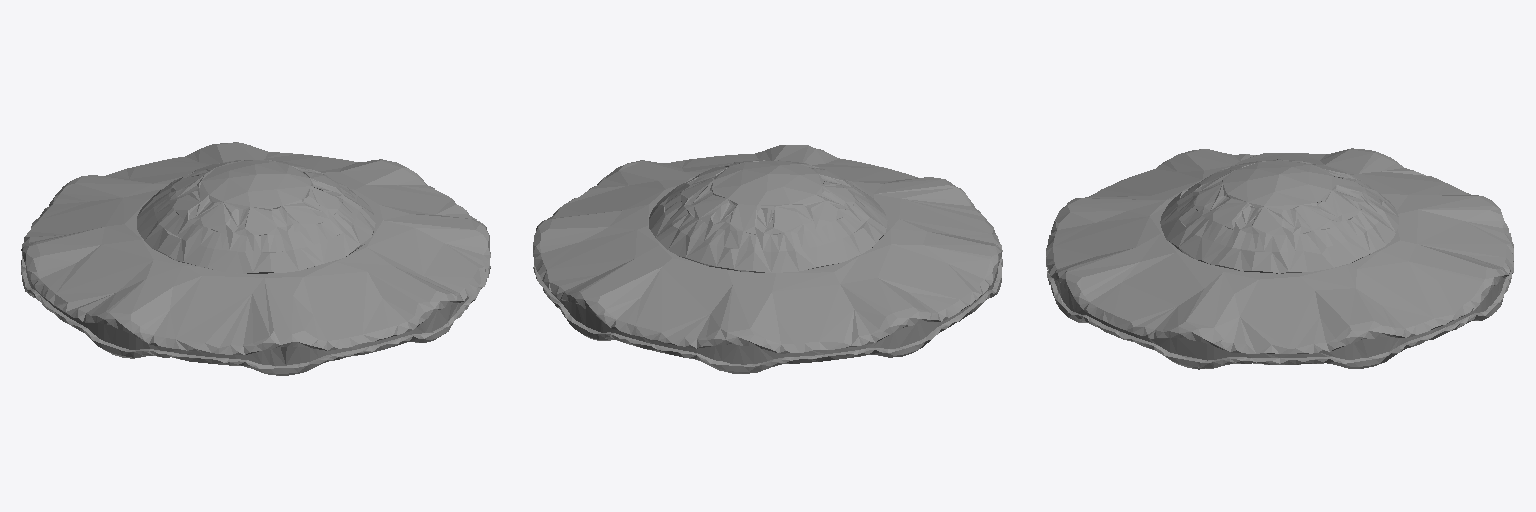
The model's file is frame_040.obj.
3 views of the same model, side by side, from view 1: azimuth 30°, elevation 25°; view 2: azimuth 150°, elevation 25°; view 3: azimuth 270°, elevation 25° (orthographic).
Visible parts, largest first — view 1: 13884_UFO_Saucer_v1_l2; view 2: 13884_UFO_Saucer_v1_l2; view 3: 13884_UFO_Saucer_v1_l2.
Boxes of the visible parts, box(x1,y1,x2,y2) form: 13884_UFO_Saucer_v1_l2: box(21, 142, 490, 375); 13884_UFO_Saucer_v1_l2: box(533, 145, 1002, 373); 13884_UFO_Saucer_v1_l2: box(1046, 148, 1513, 369).
Bounding box in the file's own units: 12.69 × 4.88 × 12.7.